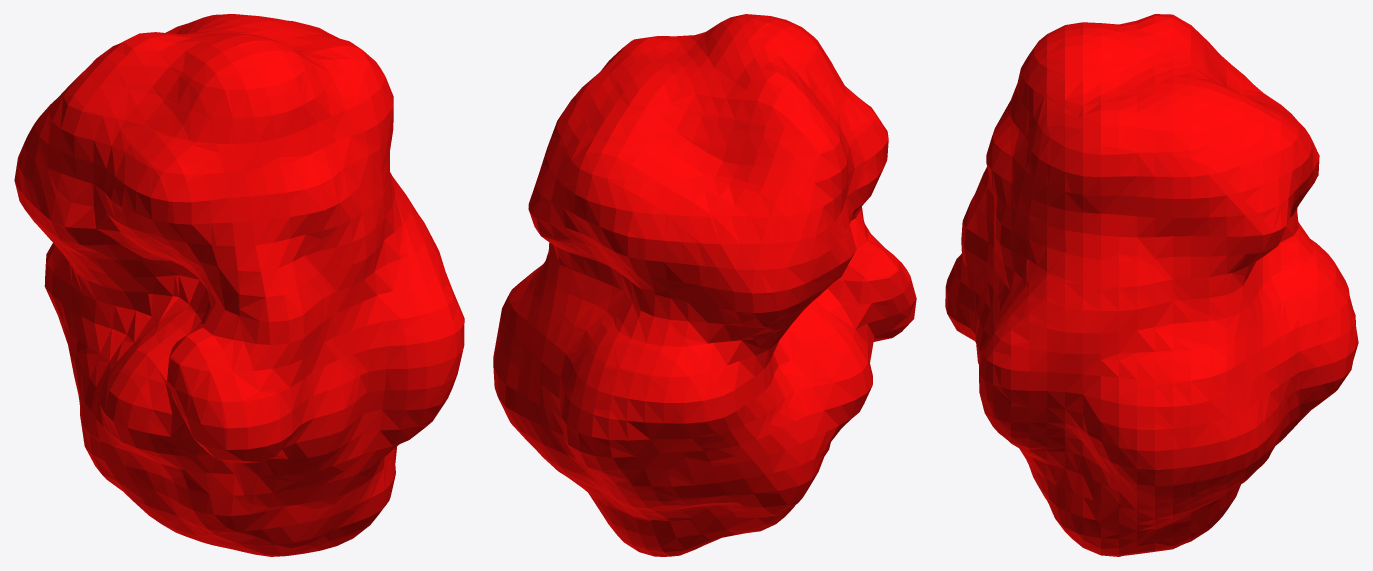
File: yigL_coarse.dae
3 views of the same model, side by side, from view 1: azimuth 30°, elevation 25°; view 2: azimuth 150°, elevation 25°; view 3: azimuth 270°, elevation 25° (orthographic). The views are drawn at different scales.
Parts seen in each view (by area): view 1: yigL; view 2: yigL; view 3: yigL.
Boxes of the visible parts, x1,y1,x2,y2 form: yigL: [14, 14, 464, 556]; yigL: [493, 14, 916, 556]; yigL: [945, 14, 1358, 556].
Bounding box in the file's own units: 43.74 × 61.05 × 46.67.
